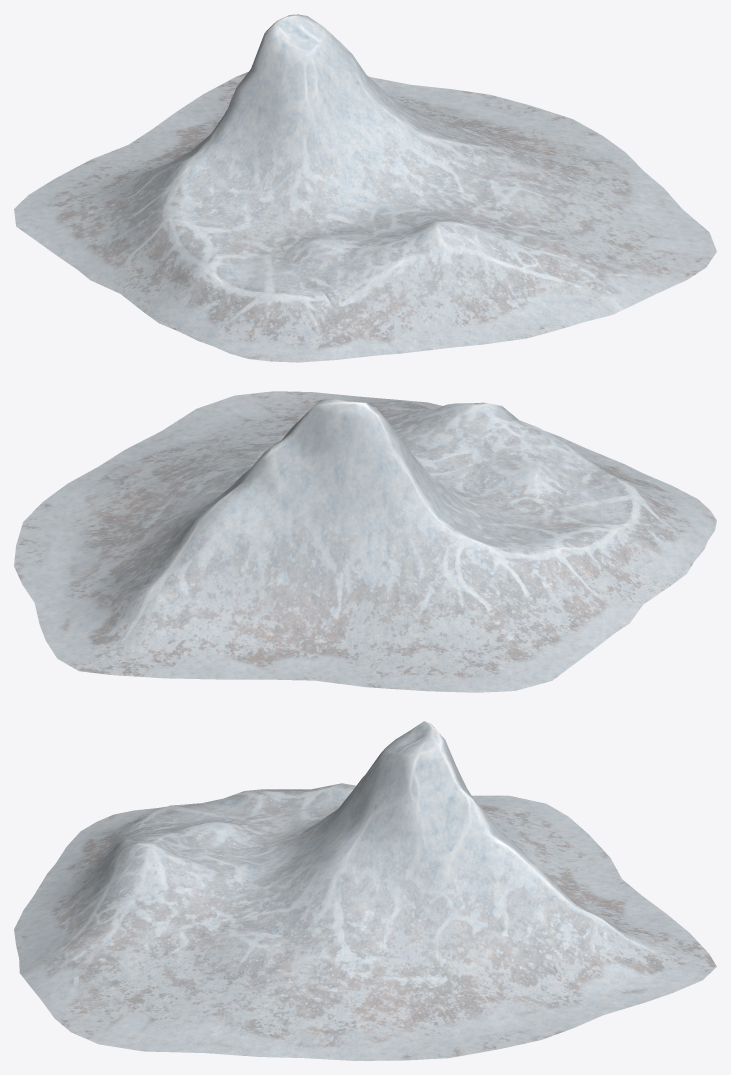
Rendered from EP1_terrain02a.fbx.
3 renders of one model, top to bottom at view 1: azimuth 30°, elevation 25°; view 2: azimuth 150°, elevation 25°; view 3: azimuth 270°, elevation 25°, orthographic. The views are drawn at different scales.
Visible parts, largest first — view 1: Terrain02a; view 2: Terrain02a; view 3: Terrain02a.
Part boxes in pixels (x1,y1,x2,y2): Terrain02a: (14,14,716,362); Terrain02a: (14,391,716,692); Terrain02a: (14,721,716,1060).
Size of the model in its own units: 12.54 by 4.03 by 14.04.
